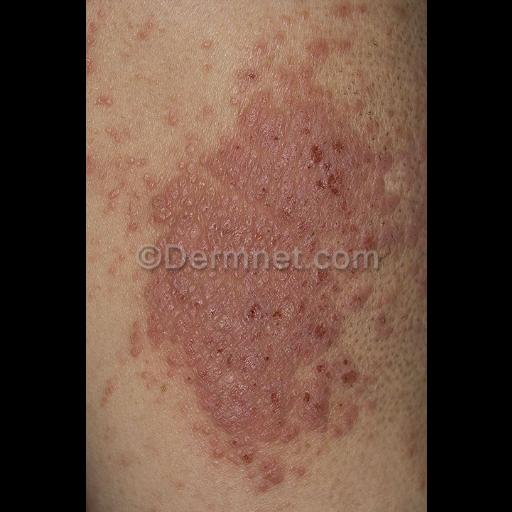Skin_Lesion: (147, 203, 357, 455), (207, 51, 381, 197), (98, 373, 114, 411), (376, 308, 390, 340)
